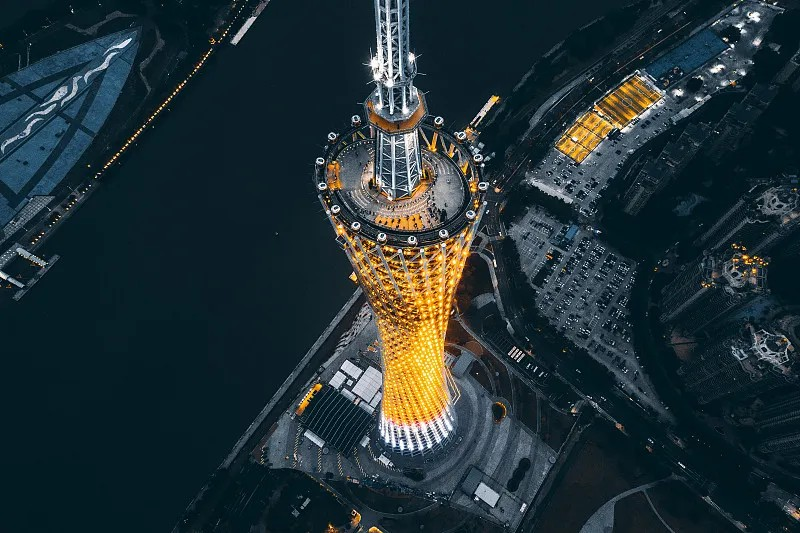Canton: (309, 7, 484, 455)
